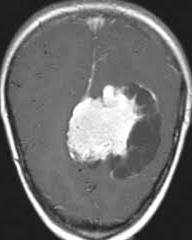Tumour-Meningioma: (63, 72, 159, 198)
